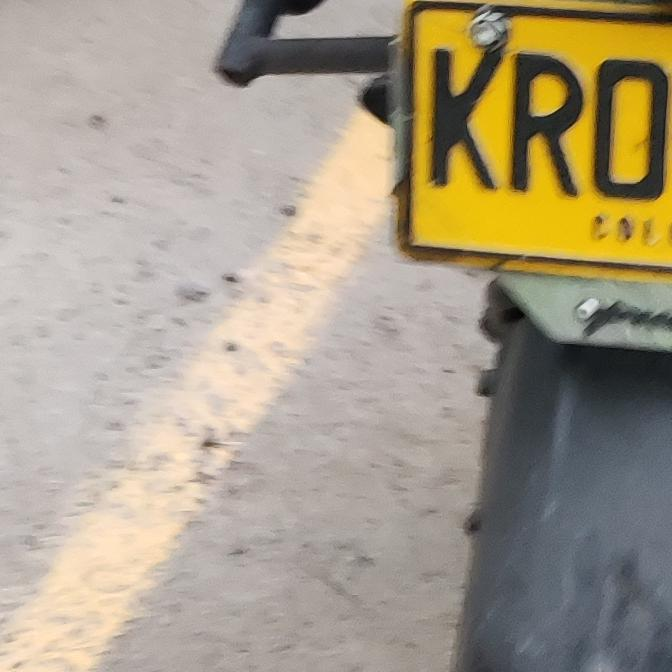plates: (396, 0, 672, 269)
